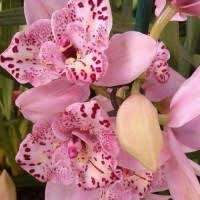orchid: (10, 8, 190, 190)
